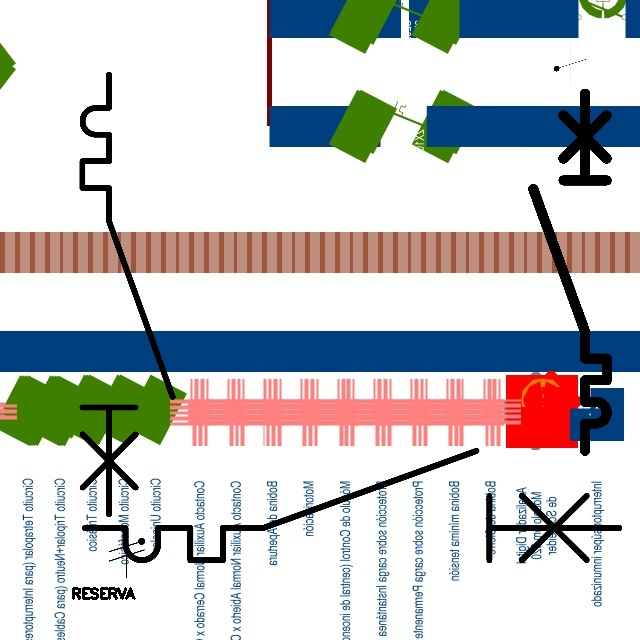interruptor_termomagnetico: (71, 437, 633, 574), (71, 63, 184, 526), (524, 84, 616, 460)
